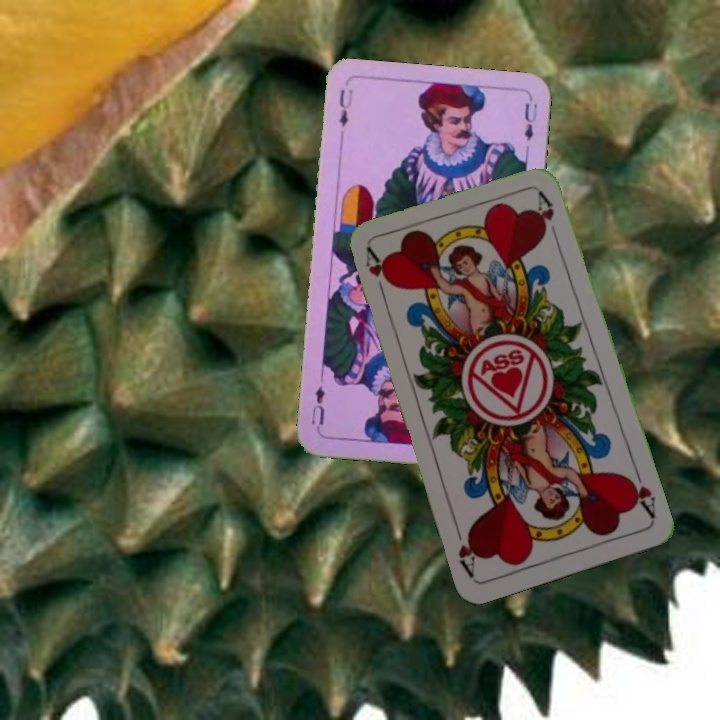EU: (335, 85, 355, 130)
HA: (622, 464, 658, 522), (361, 245, 393, 303)
